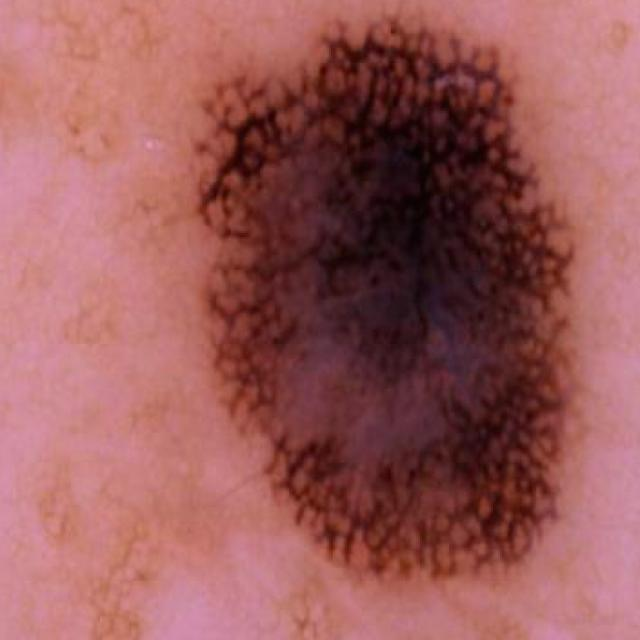NV: (178, 9, 577, 617)
